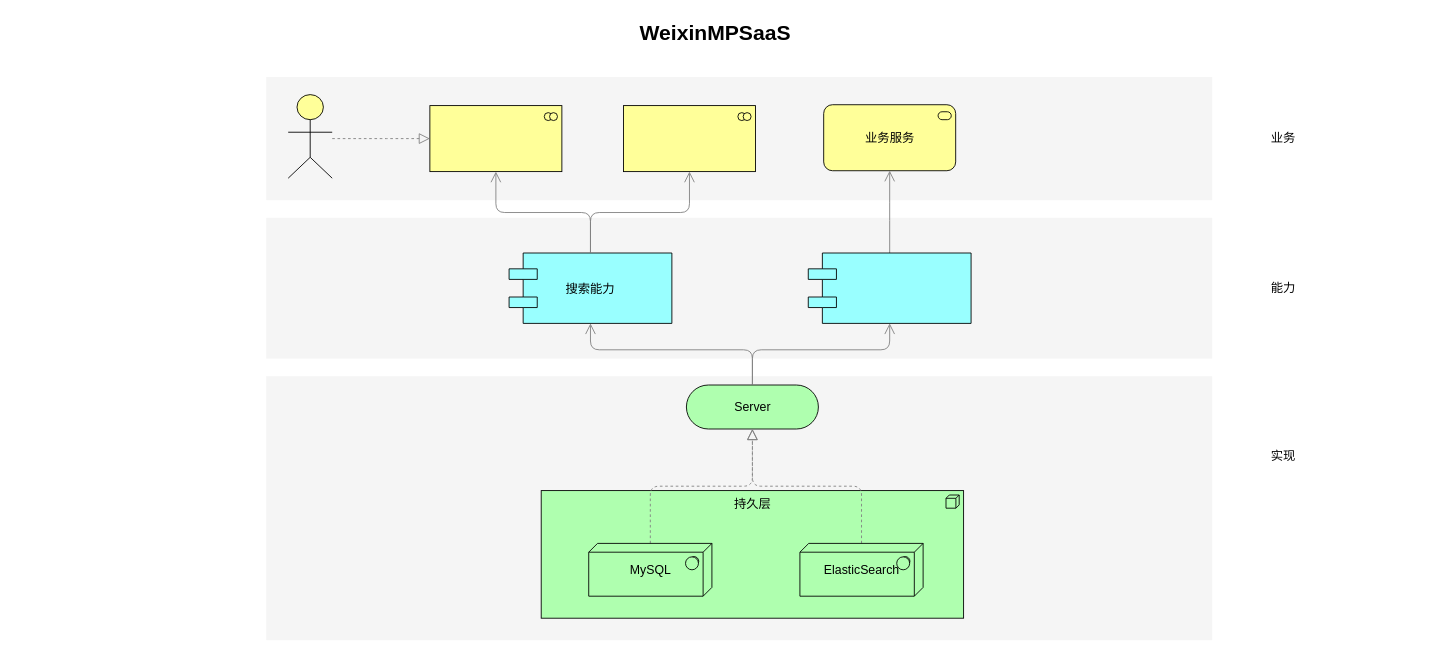
Some shapes in this 1429 by 655 pixel diagram are drawn without their labels. Here are the shapes that lost their labels. From the top down, the box of each, then its label:
(429, 105, 562, 172): 公众号1
(623, 105, 755, 172): 公众号2
(807, 252, 971, 323): OpenApi
